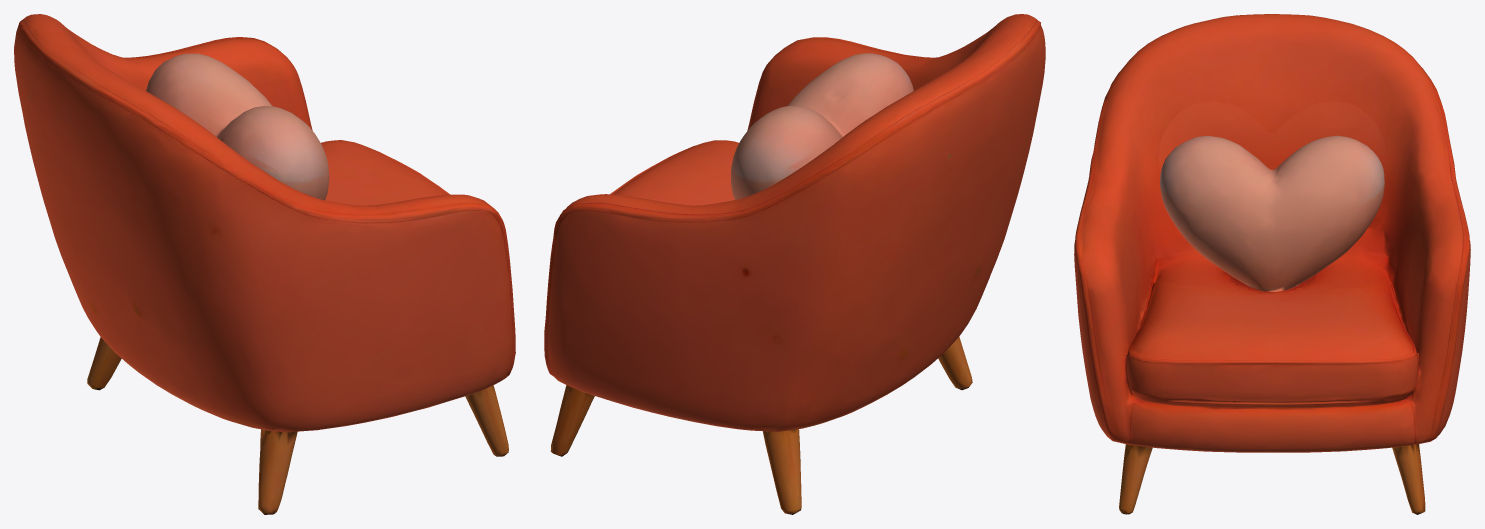
File: pink-armchair1.glb
3 views of the same model, side by side, from view 1: azimuth 30°, elevation 25°; view 2: azimuth 150°, elevation 25°; view 3: azimuth 270°, elevation 25° (orthographic). The views are drawn at different scales.
Visible parts, largest first — view 1: tripo_node_e9e637be-3e7e-4bbd-a722-f79af6262ce7; view 2: tripo_node_e9e637be-3e7e-4bbd-a722-f79af6262ce7; view 3: tripo_node_e9e637be-3e7e-4bbd-a722-f79af6262ce7.
Part boxes in pixels (bbox=[...]): tripo_node_e9e637be-3e7e-4bbd-a722-f79af6262ce7: bbox=[14, 14, 515, 514]; tripo_node_e9e637be-3e7e-4bbd-a722-f79af6262ce7: bbox=[544, 14, 1045, 514]; tripo_node_e9e637be-3e7e-4bbd-a722-f79af6262ce7: bbox=[1074, 14, 1470, 514].
Bounding box in the file's own units: 0.967 × 0.9955 × 1.
1 material, 1 textured.
